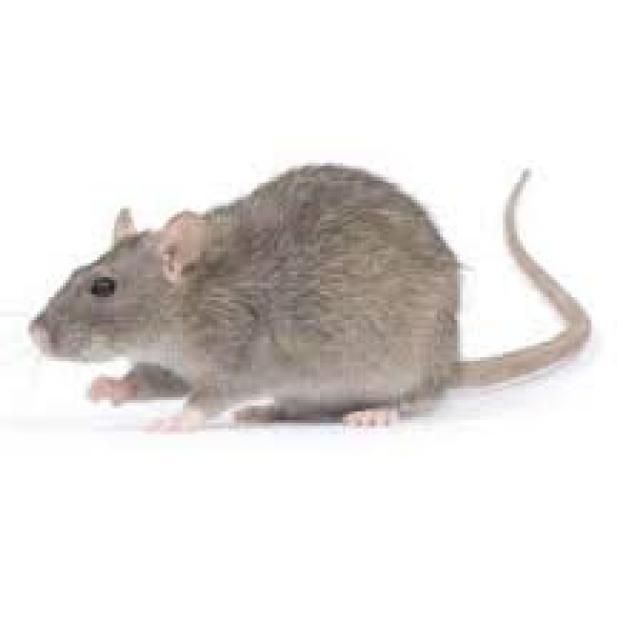Rat: (8, 121, 630, 527)
